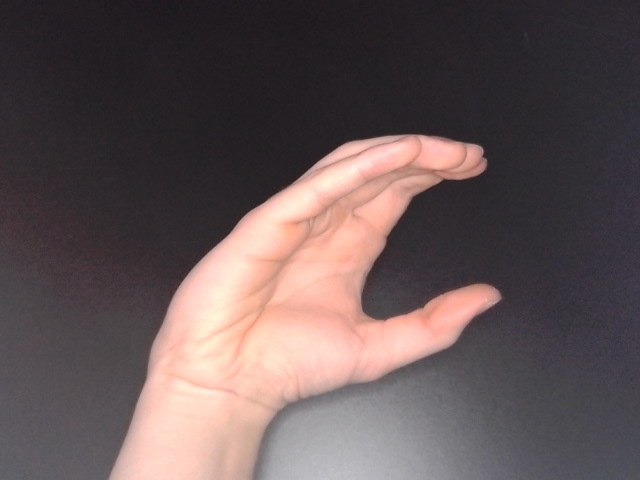c: (142, 128, 507, 416)
